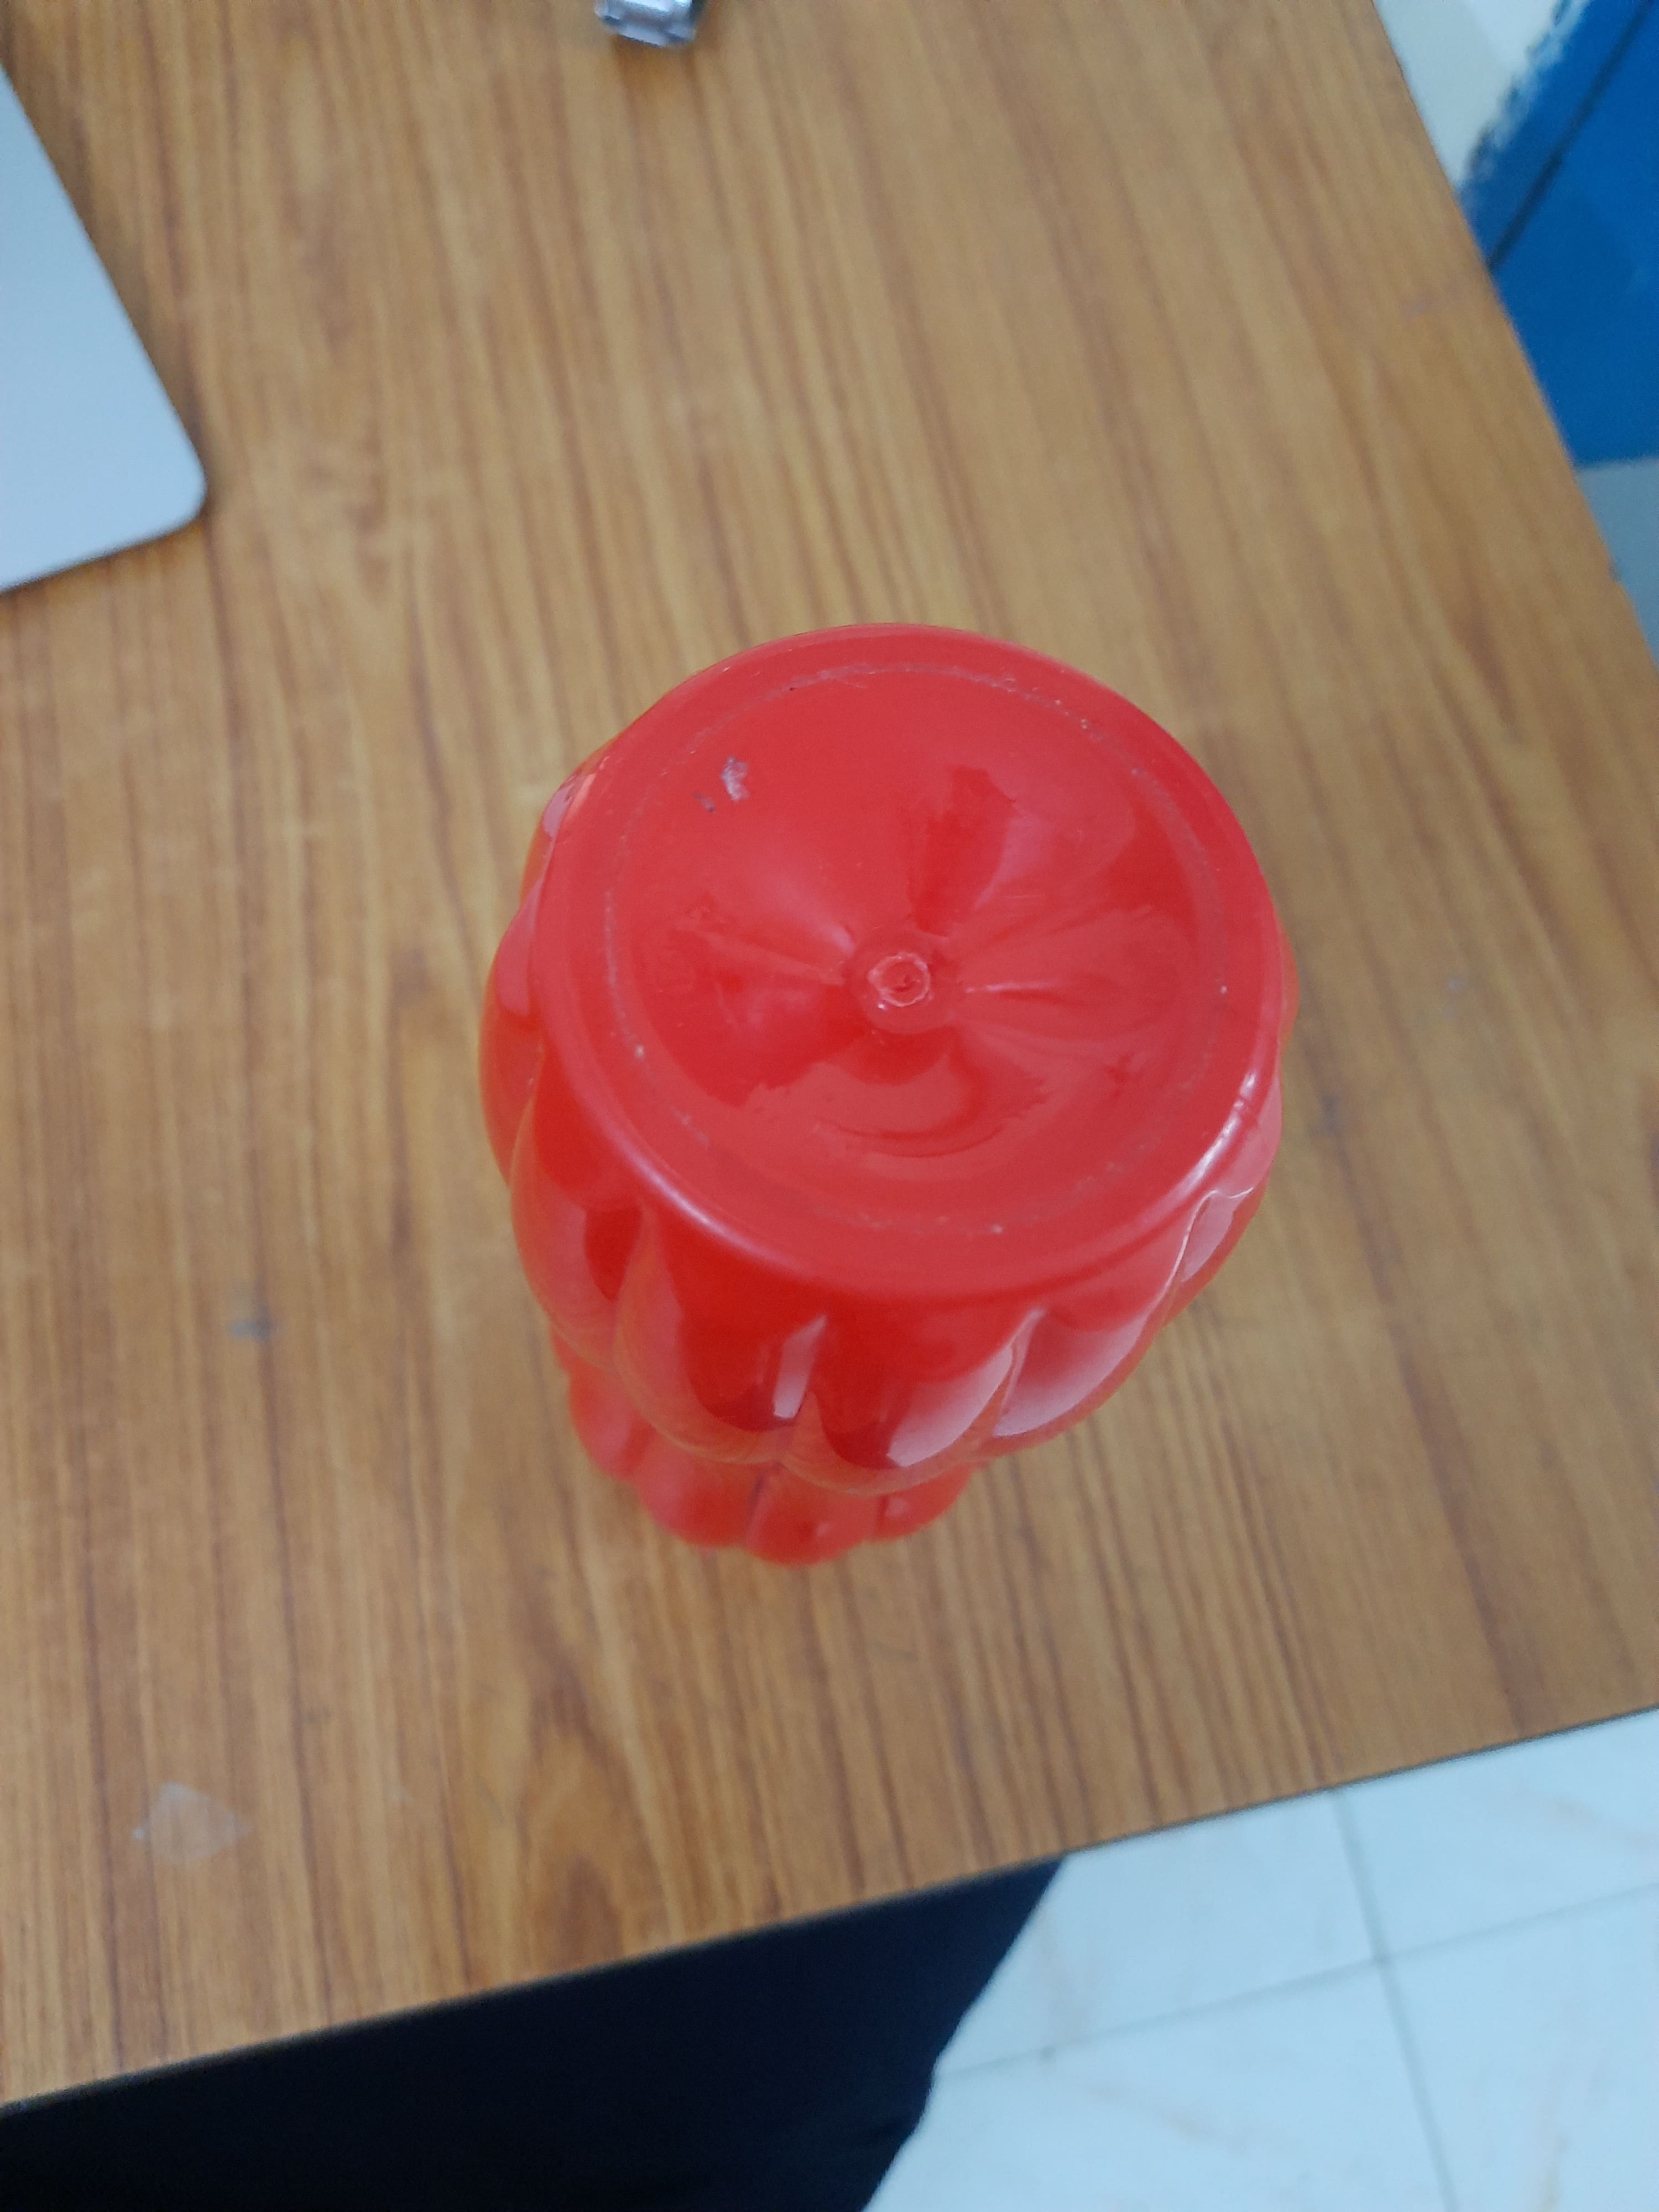Vikash's Water Bottle: (479, 611, 1300, 1581)
